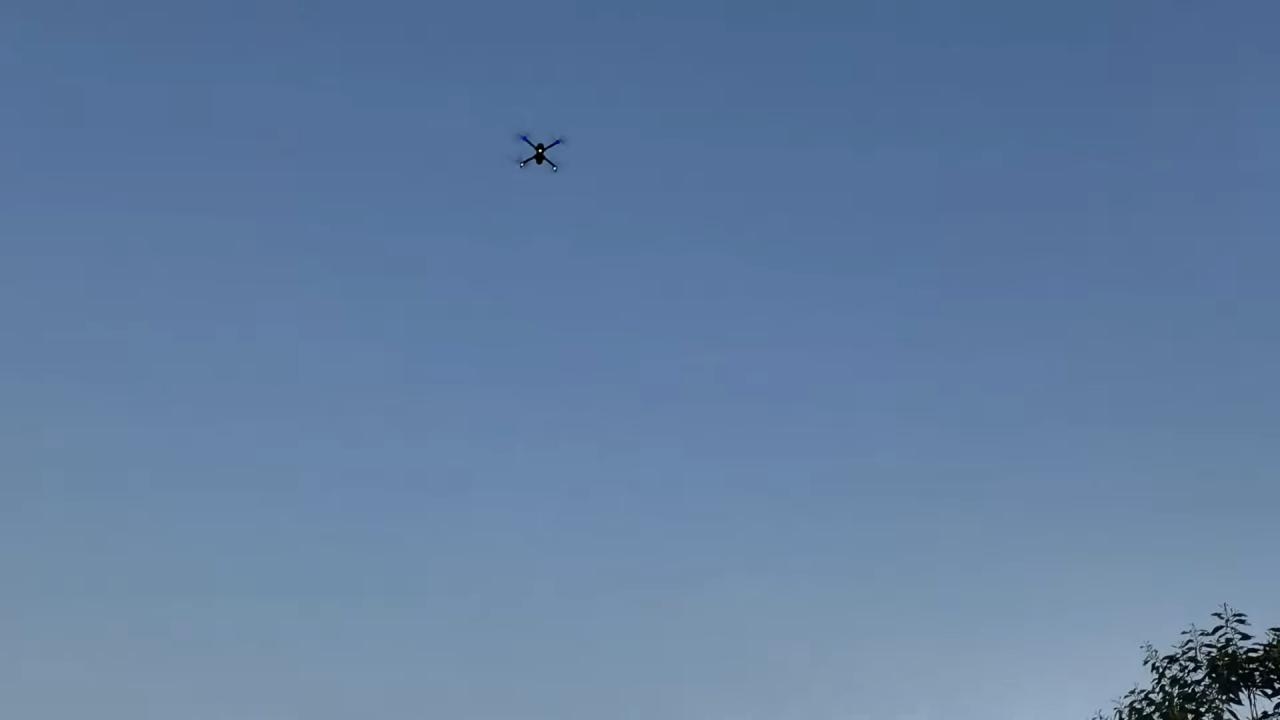Drone: (503, 121, 575, 180)
